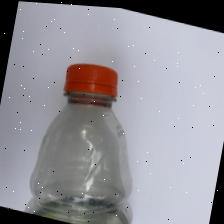plastic: (20, 52, 160, 224)
